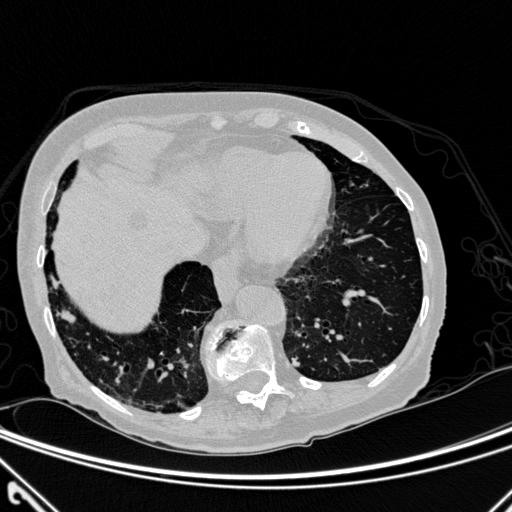nodule: (59, 307, 77, 325)
